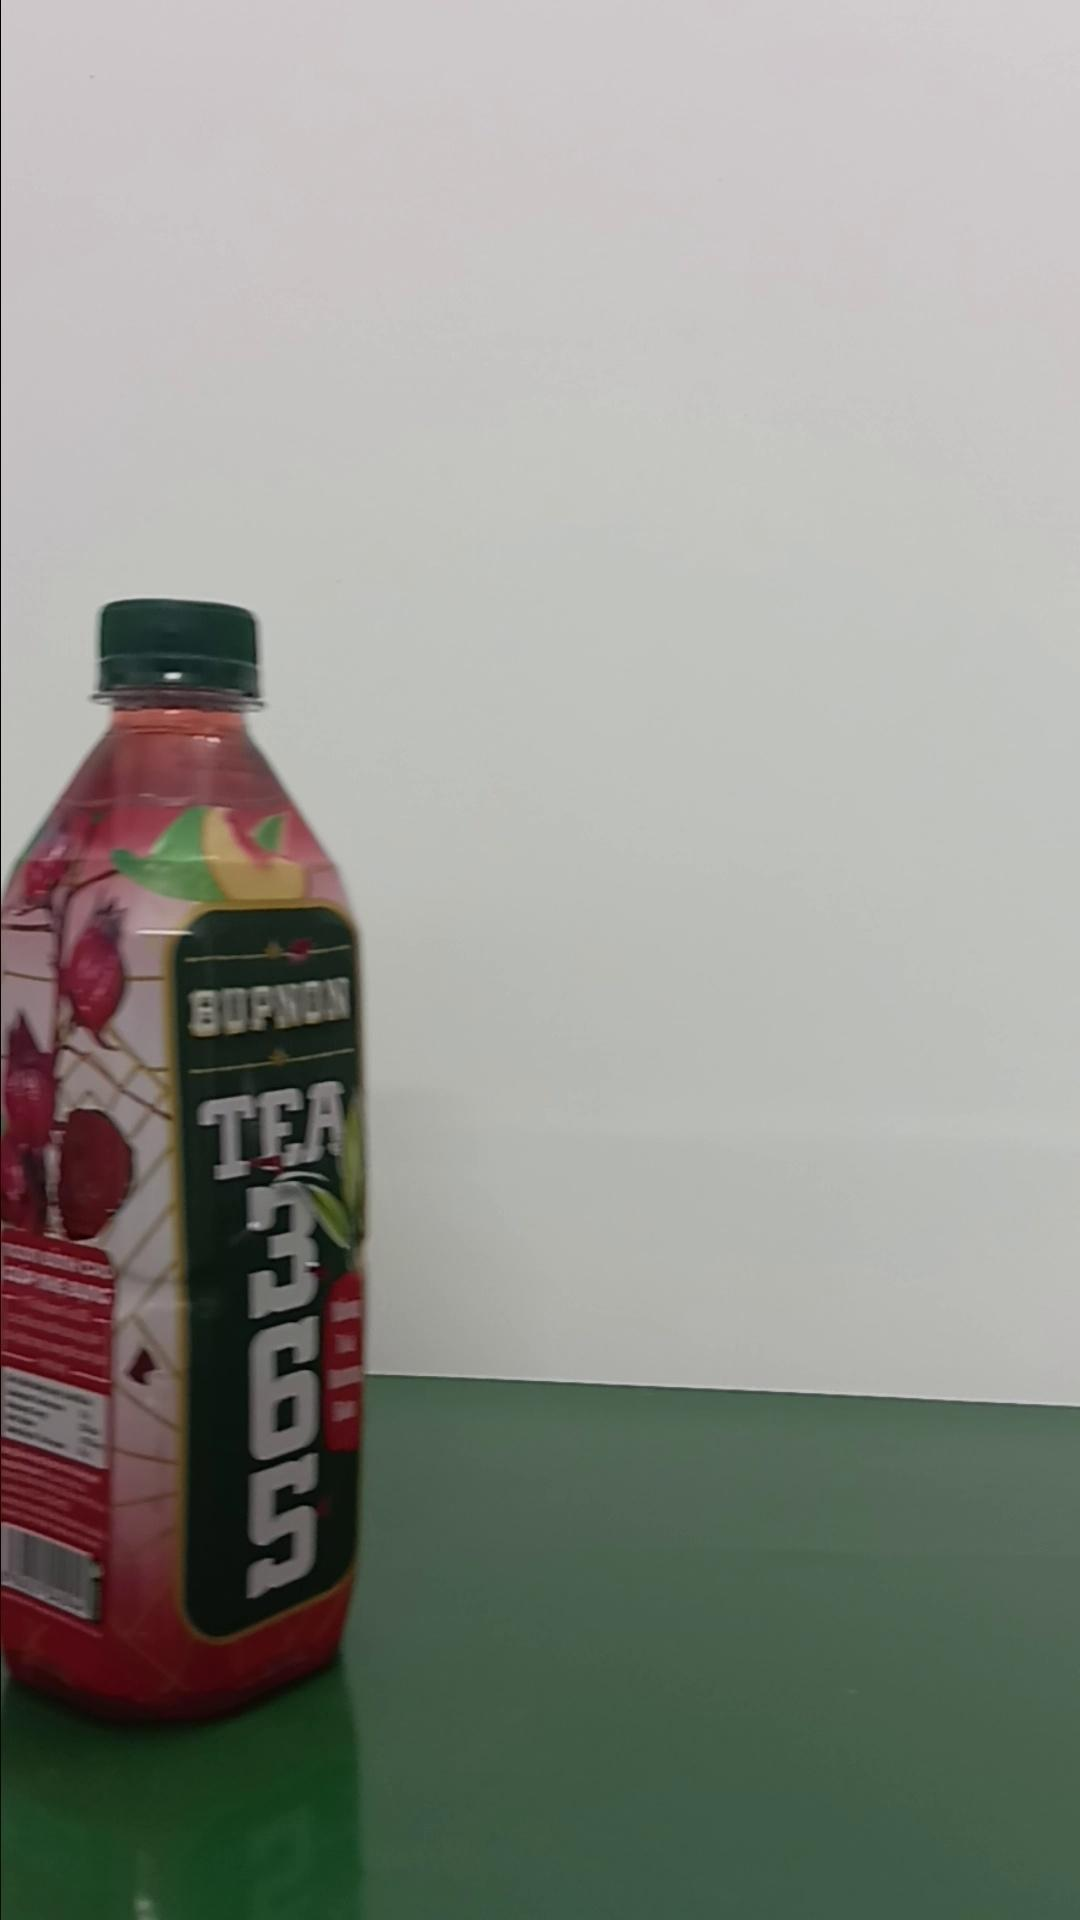loi rach va lap chai: (4, 584, 377, 1745)
